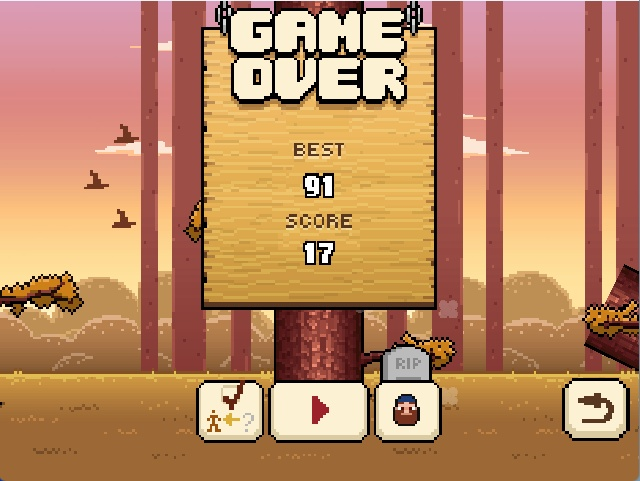game_over: (220, 6, 410, 111)
